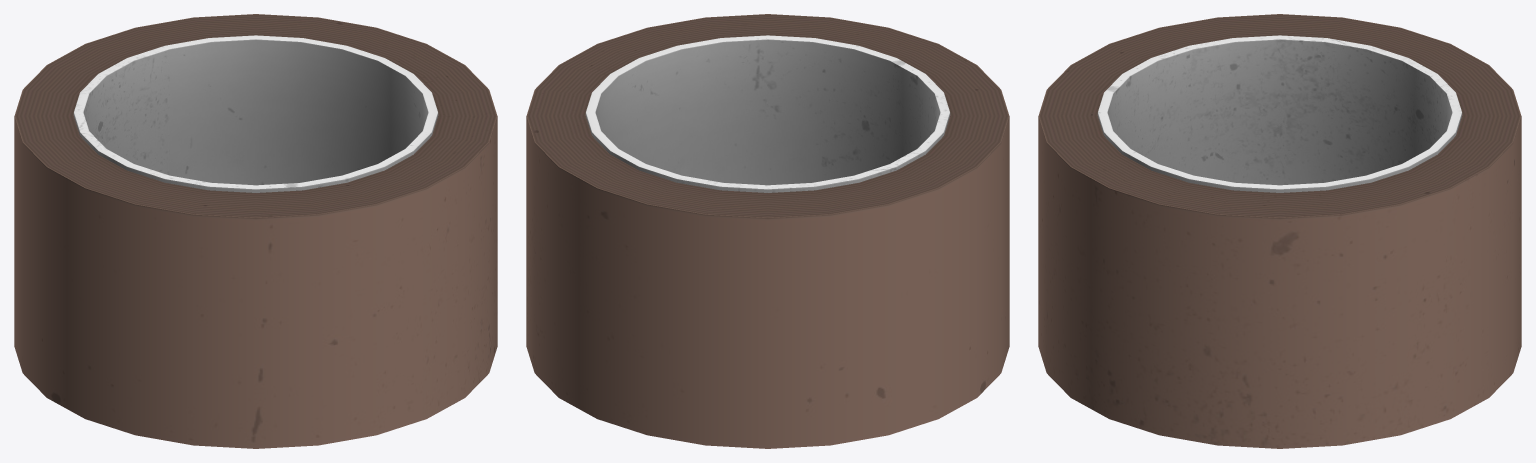
The model's file is scotch_tape.FBX.
3 views of the same model, side by side, from view 1: azimuth 30°, elevation 25°; view 2: azimuth 150°, elevation 25°; view 3: azimuth 270°, elevation 25° (orthographic).
Parts seen in each view (by area): view 1: scotchTape; view 2: scotchTape; view 3: scotchTape.
Part boxes in pixels (x1,y1,x2,y2): scotchTape: (14, 14, 497, 448); scotchTape: (526, 14, 1009, 448); scotchTape: (1038, 14, 1521, 448).
Size of the model in its own units: 0.1 by 0.0544 by 0.1.
